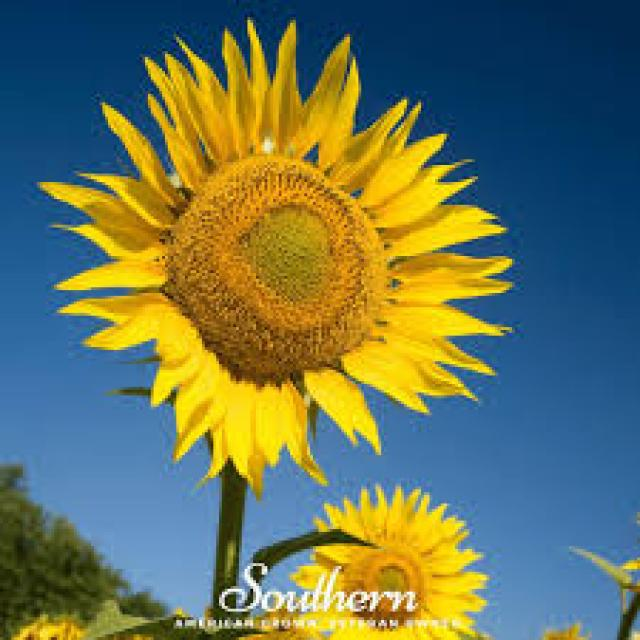sunflower: (32, 13, 532, 502), (252, 476, 500, 638), (2, 608, 99, 640), (535, 616, 594, 640)
